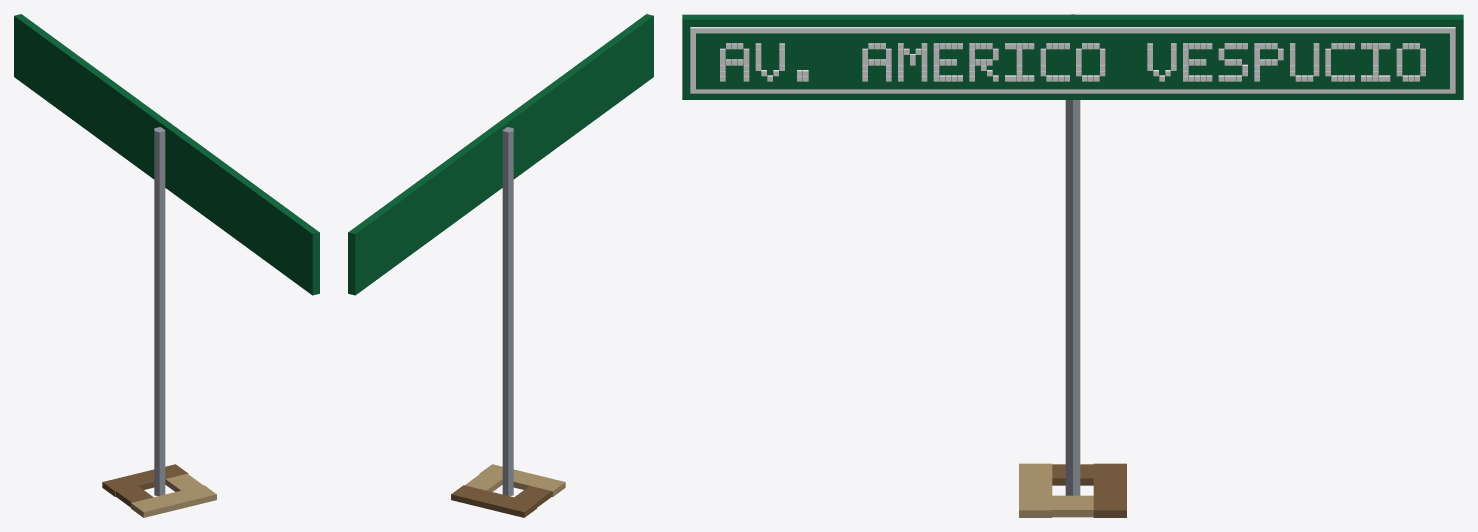
File: letrero_calle_vespucio.obj
3 views of the same model, side by side, from view 1: azimuth 30°, elevation 25°; view 2: azimuth 150°, elevation 25°; view 3: azimuth 270°, elevation 25° (orthographic). The views are drawn at different scales.
Visible parts, largest first — view 1: letrero_calle_vespucio; view 2: letrero_calle_vespucio; view 3: letrero_calle_vespucio.
Boxes of the visible parts, bbox=[...] form: letrero_calle_vespucio: bbox=[14, 14, 319, 517]; letrero_calle_vespucio: bbox=[348, 14, 653, 517]; letrero_calle_vespucio: bbox=[682, 14, 1463, 517].
Size of the model in its own units: 0.8 by 3.84 by 5.64.
